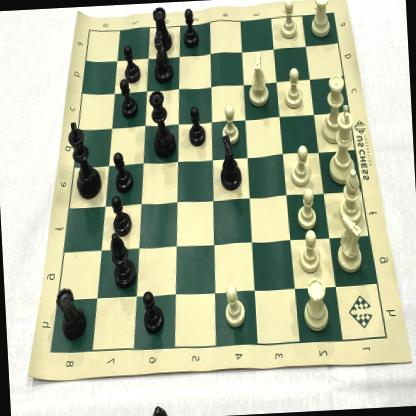black-king: (66, 117, 102, 202)
black-knight: (104, 230, 138, 292)
black-pawn: (140, 286, 170, 334), (109, 191, 134, 238), (111, 148, 134, 195), (184, 101, 206, 147), (116, 77, 139, 120), (179, 6, 201, 50), (121, 43, 143, 84)
black-queen: (148, 86, 178, 163)
black-rook: (54, 283, 89, 342), (150, 2, 174, 52)
white-bishop: (336, 164, 366, 224)
white-king: (324, 102, 360, 186)
white-knight: (334, 212, 367, 274), (216, 134, 245, 192), (244, 48, 272, 107), (150, 28, 175, 84)
white-pawn: (221, 279, 248, 329), (297, 228, 323, 274), (294, 187, 319, 231), (289, 144, 313, 189), (282, 65, 305, 111), (219, 102, 240, 146), (276, 0, 298, 39)
white-queen: (318, 72, 350, 145)
white-rook: (300, 274, 332, 334), (308, 0, 333, 37)
